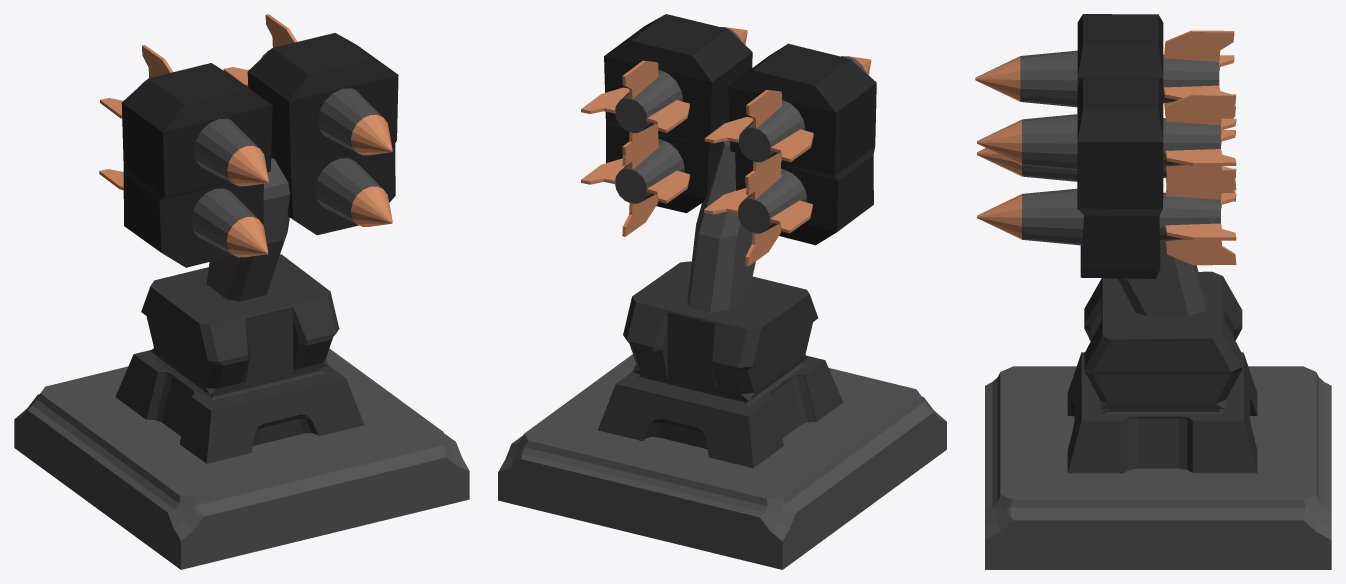
The model's file is Rocket Launcher Tower.fbx.
3 views of the same model, side by side, from view 1: azimuth 30°, elevation 25°; view 2: azimuth 150°, elevation 25°; view 3: azimuth 270°, elevation 25° (orthographic). The views are drawn at different scales.
Parts seen in each view (by area): view 1: Head, Platform, Rocket 2, Rocket 1, Rocket 3, Rocket 4; view 2: Head, Platform, Rocket 1, Rocket 2, Rocket 4, Rocket 3; view 3: Head, Platform, Rocket 2, Rocket 4, Rocket 1, Rocket 3.
Boxes of the visible parts, <box> form: Head: <box>115,33,398,463</box>; Platform: <box>14,348,469,569</box>; Rocket 2: <box>223,14,392,155</box>; Rocket 1: <box>100,45,268,186</box>; Rocket 3: <box>99,169,268,257</box>; Rocket 4: <box>315,158,392,226</box>; Head: <box>598,14,876,468</box>; Platform: <box>498,354,946,569</box>; Rocket 1: <box>704,56,871,195</box>; Rocket 2: <box>581,27,747,166</box>; Rocket 4: <box>581,133,689,236</box>; Rocket 3: <box>704,163,812,266</box>; Head: <box>1067,14,1257,473</box>; Platform: <box>985,366,1331,569</box>; Rocket 2: <box>977,94,1236,190</box>; Rocket 4: <box>977,168,1236,265</box>; Rocket 1: <box>975,30,1234,118</box>; Rocket 3: <box>977,105,1235,201</box>.
Bounding box in the file's own units: 100 × 139 × 103.
